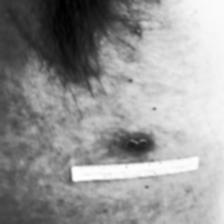Unclassified: (122, 132, 152, 156)
